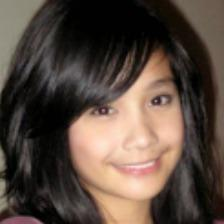Non hijab: (0, 0, 217, 224)
